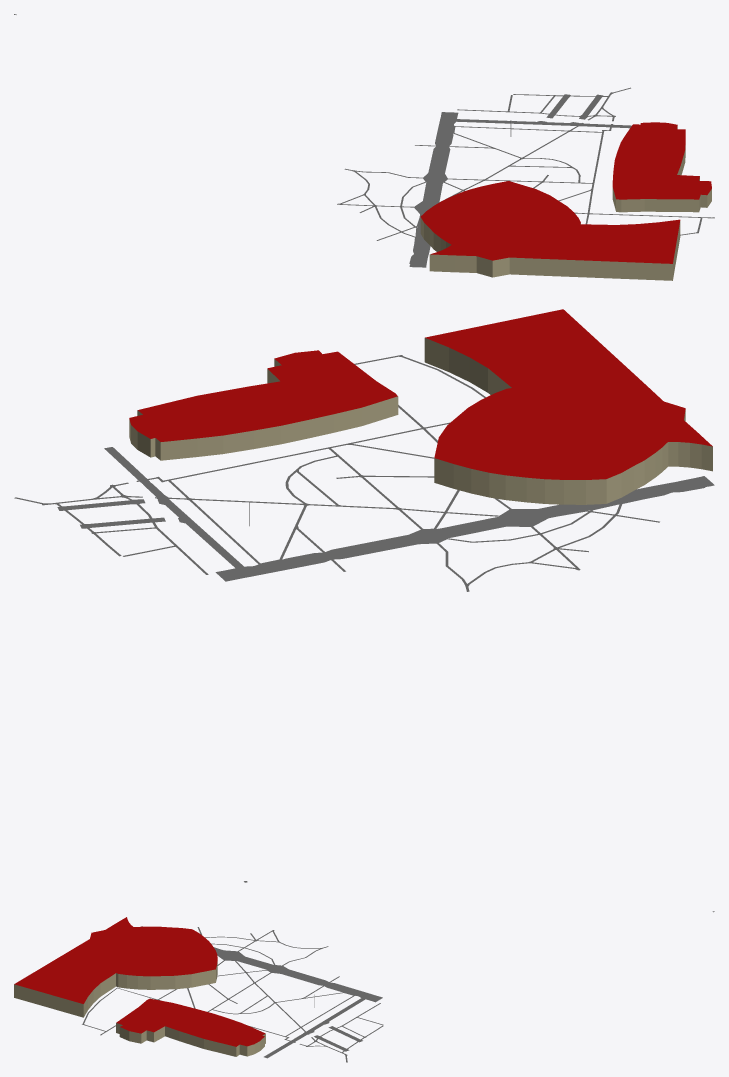
The model's file is ERAU QUADONLY fbx.fbx.
3 renders of one model, top to bottom at view 1: azimuth 30°, elevation 25°; view 2: azimuth 150°, elevation 25°; view 3: azimuth 270°, elevation 25°, orthographic. The views are drawn at different scales.
Visible parts, largest first — view 1: Building Mori Hosseini Student Union, Building College of Arts & Sciences, Road Legacy Walkway.011; view 2: Building Mori Hosseini Student Union, Building College of Arts & Sciences, Road Legacy Walkway.011; view 3: Building Mori Hosseini Student Union, Building College of Arts & Sciences, Road Legacy Walkway.011.
Part boxes in pixels (<box>): Building Mori Hosseini Student Union: <box>420,181,680,280</box>; Building College of Arts & Sciences: <box>612,122,711,212</box>; Road Legacy Walkway.011: <box>428,149,450,173</box>; Building Mori Hosseini Student Union: <box>424,309,712,504</box>; Building College of Arts & Sciences: <box>129,350,398,460</box>; Road Legacy Walkway.011: <box>332,535,418,558</box>; Building Mori Hosseini Student Union: <box>14,917,217,1017</box>; Building College of Arts & Sciences: <box>116,998,265,1056</box>; Road Legacy Walkway.011: <box>281,969,325,984</box>.
Size of the model in its own units: 24028 by 1000 by 46978.
